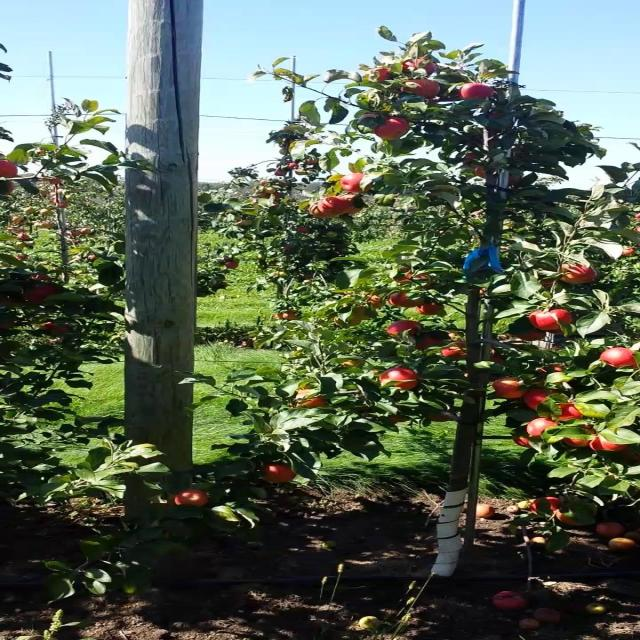apple: (529, 309, 573, 332), (380, 366, 418, 390), (373, 116, 409, 140), (560, 262, 598, 284), (318, 196, 358, 216), (600, 348, 638, 368), (262, 462, 296, 484), (296, 385, 329, 407), (402, 79, 440, 98), (393, 265, 429, 284), (327, 195, 362, 214), (493, 378, 524, 399), (173, 489, 209, 507), (402, 56, 438, 74), (393, 271, 431, 287), (527, 418, 558, 437), (307, 199, 338, 218), (589, 436, 628, 451), (522, 389, 551, 409), (460, 82, 493, 99), (387, 291, 422, 307), (531, 496, 562, 514), (27, 284, 58, 302), (338, 194, 367, 213), (387, 320, 420, 336), (347, 306, 376, 324), (340, 172, 364, 192), (553, 509, 580, 526), (22, 286, 49, 303), (393, 265, 416, 284), (558, 402, 582, 420), (42, 321, 71, 335), (440, 344, 467, 359), (416, 301, 444, 315), (416, 335, 442, 350), (42, 321, 69, 335), (424, 411, 458, 422), (516, 329, 547, 341), (331, 316, 362, 326), (371, 66, 391, 81), (562, 438, 592, 447), (0, 294, 22, 306), (538, 364, 564, 374), (273, 310, 298, 320), (367, 294, 384, 308), (389, 414, 409, 424), (513, 436, 531, 447), (29, 272, 51, 281), (462, 151, 478, 163), (540, 278, 556, 289), (580, 425, 596, 435), (620, 246, 636, 256), (473, 166, 487, 177), (509, 175, 520, 184)
